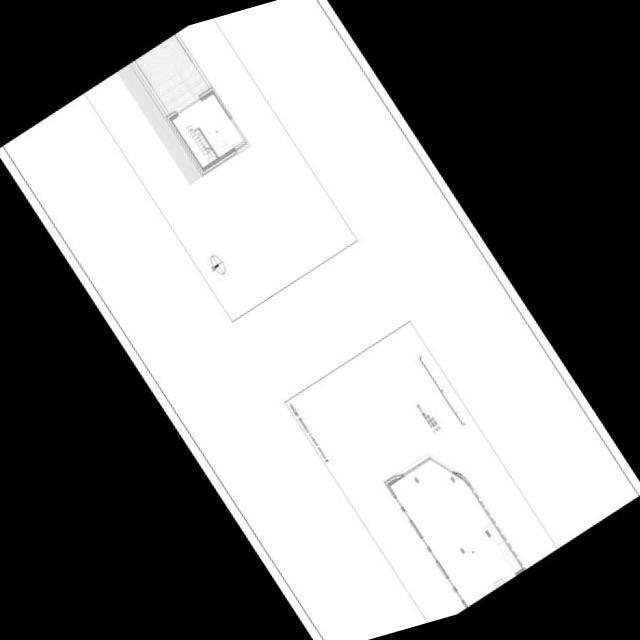background: (0, 0, 640, 640)
space_other: (388, 458, 521, 606), (170, 92, 243, 167)
space_staircase: (185, 124, 216, 162)
